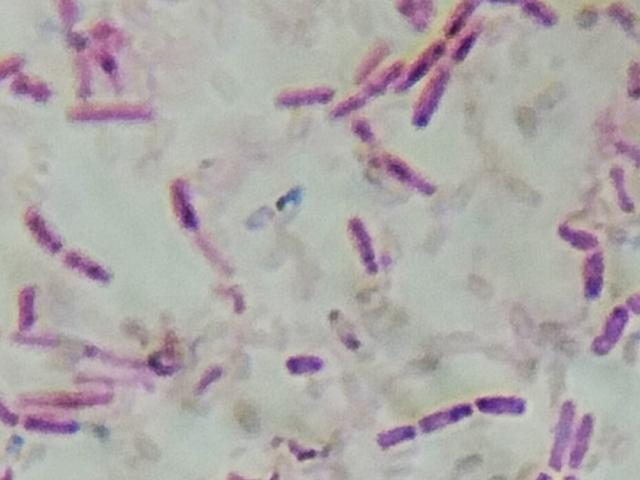E. coli: (169, 172, 222, 277), (358, 119, 425, 200), (345, 207, 384, 280), (561, 222, 604, 288), (62, 3, 91, 97), (72, 96, 159, 127), (420, 62, 455, 129), (595, 302, 632, 361), (419, 397, 470, 438), (409, 34, 449, 85), (92, 22, 122, 90), (63, 247, 112, 287), (25, 386, 103, 411), (551, 398, 576, 475), (473, 387, 527, 421), (275, 82, 336, 111), (285, 347, 333, 383), (23, 415, 89, 440), (352, 56, 413, 83), (575, 412, 597, 470), (26, 210, 59, 248), (611, 159, 634, 213), (514, 0, 560, 27), (376, 420, 411, 450), (12, 285, 36, 327), (11, 73, 47, 101), (446, 2, 477, 32), (455, 27, 480, 61), (0, 50, 26, 76), (329, 97, 363, 114), (0, 399, 20, 427), (628, 60, 640, 102)
